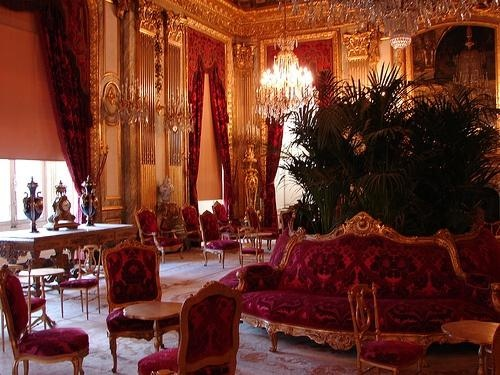chair: (101, 236, 186, 368), (1, 266, 97, 375), (136, 279, 243, 373), (344, 280, 430, 375), (135, 209, 188, 264), (198, 212, 244, 268), (212, 200, 241, 244)
diningtable: (1, 209, 139, 334)
sofa: (235, 209, 500, 361), (447, 218, 500, 291)
